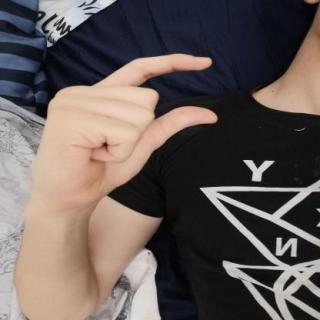DELL: (20, 44, 232, 216)
